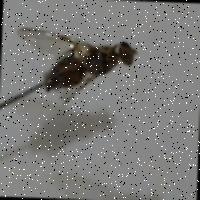Oriental-fruit-fly: (9, 10, 151, 125)
